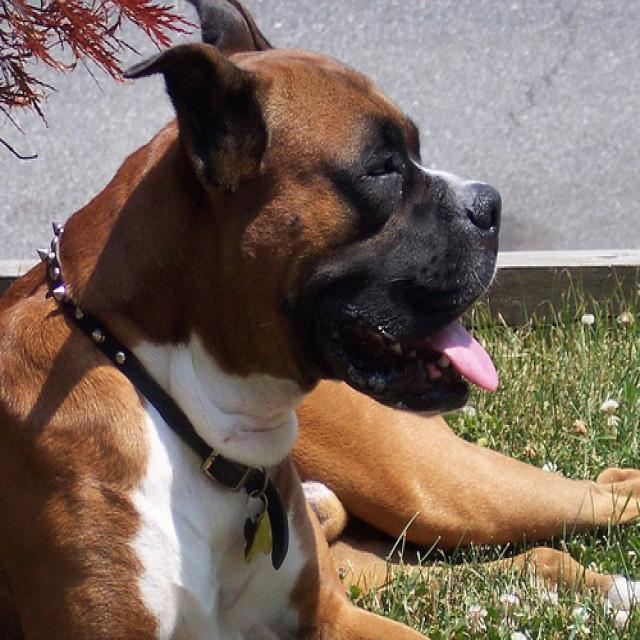dog-boxer: (1, 2, 637, 637)
